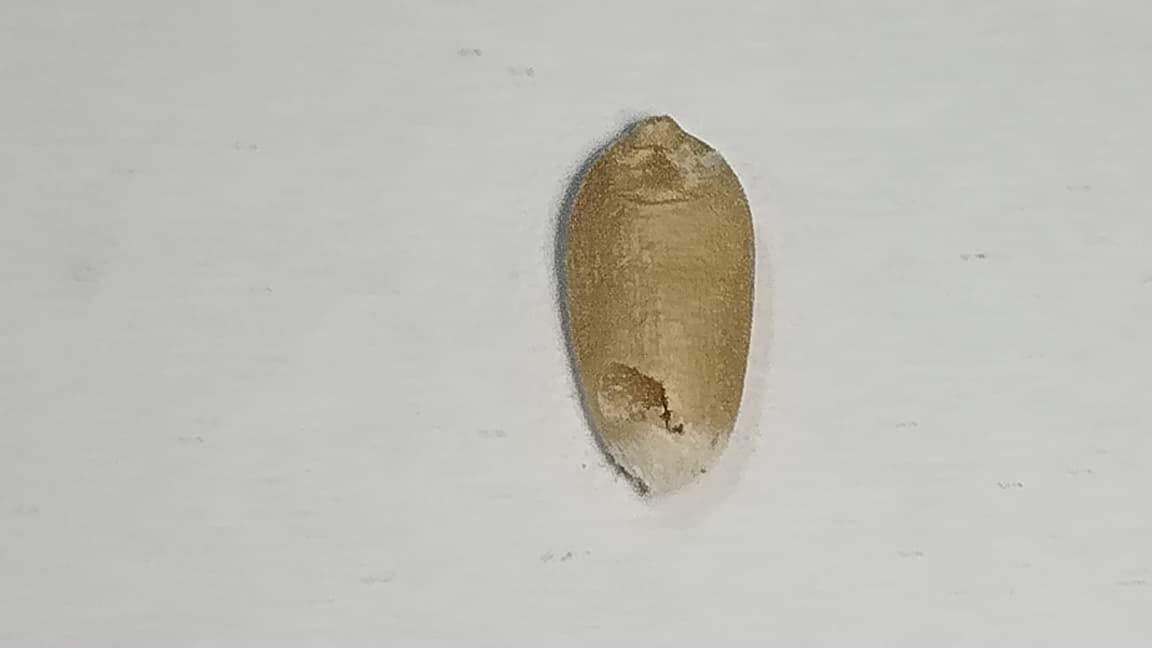damage: (564, 117, 754, 491)
insectdamage: (580, 344, 694, 436)
